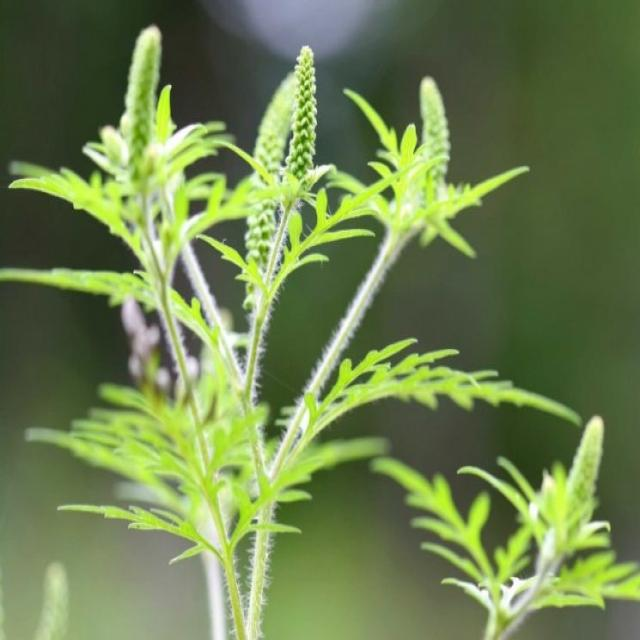ambrosia: (94, 21, 178, 260), (394, 55, 486, 266), (258, 22, 326, 294)
